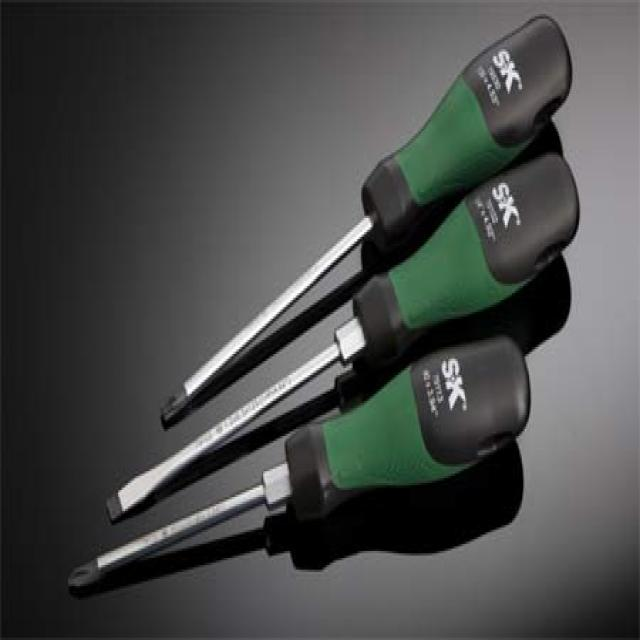screw_driver: (109, 16, 579, 518), (69, 338, 530, 589)
